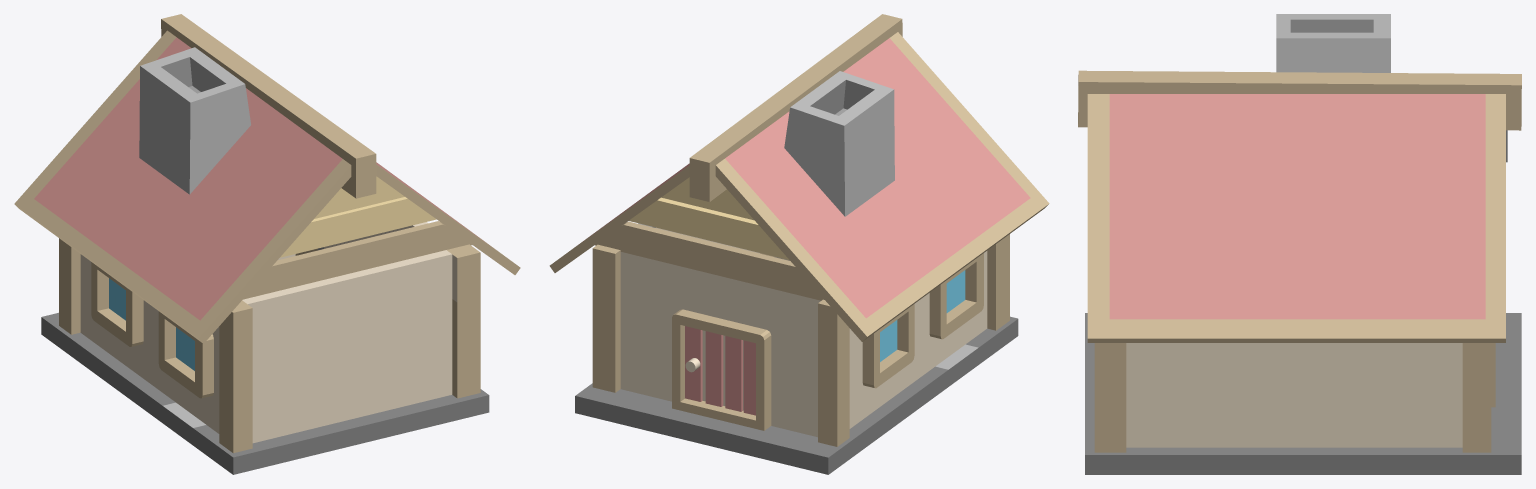
Rendered from Cabin.fbx.
3 views of the same model, side by side, from view 1: azimuth 30°, elevation 25°; view 2: azimuth 150°, elevation 25°; view 3: azimuth 270°, elevation 25° (orthographic). The views are drawn at different scales.
Parts seen in each view (by area): view 1: pCube85, pCube50, pCube51, pCube89, pCube63, pCube49, pCube90; view 2: pCube85, pCube50, pCube51, pCube88, pCube66, pCube49, pCube92, pCube93, pCube65, pCube91, pCube94; view 3: pCube49, pCube85, pCube51, pCube50.
Boxes of the visible parts, <box> form: pCube85: <box>41,222,489,474</box>; pCube50: <box>14,30,351,343</box>; pCube51: <box>161,14,376,198</box>; pCube89: <box>243,221,471,299</box>; pCube63: <box>280,197,436,257</box>; pCube49: <box>376,162,520,274</box>; pCube90: <box>314,176,404,218</box>; pCube85: <box>575,223,1018,474</box>; pCube50: <box>715,32,1049,341</box>; pCube51: <box>689,14,902,201</box>; pCube88: <box>595,221,824,300</box>; pCube66: <box>629,197,789,260</box>; pCube49: <box>549,163,689,272</box>; pCube92: <box>705,331,723,406</box>; pCube93: <box>725,336,742,411</box>; pCube65: <box>661,177,753,220</box>; pCube91: <box>685,326,702,401</box>; pCube94: <box>743,340,755,415</box>; pCube49: <box>1087,94,1505,342</box>; pCube85: <box>1085,313,1521,474</box>; pCube51: <box>1078,70,1521,130</box>; pCube50: <box>1276,14,1507,162</box>.
Size of the model in its own units: 7.1 by 6.45 by 7.45.
